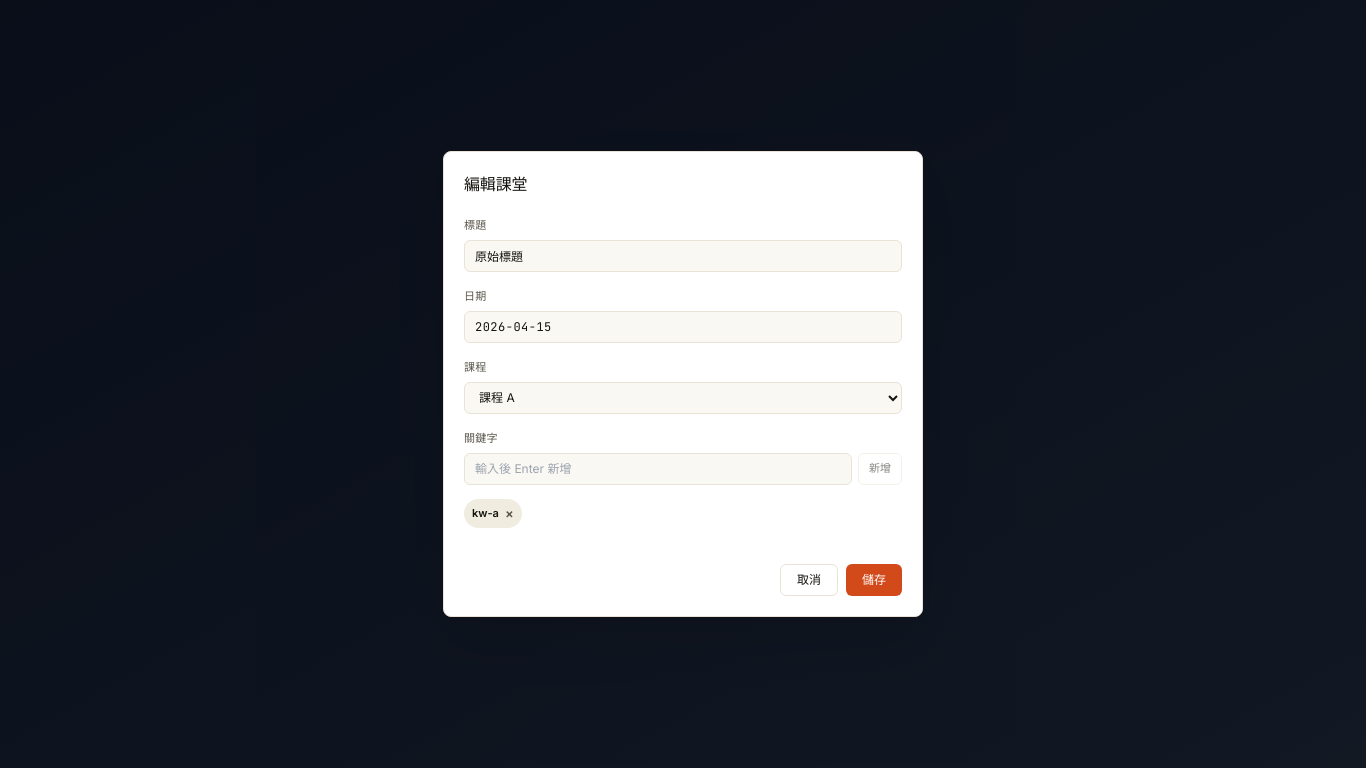
Test case: LectureEditDialog › adds a keyword when Enter is pressed
Step 1. Type "kw-new" into the field with placeholder "輸入後 Enter 新增" → [658, 469], box [464,453,852,485]
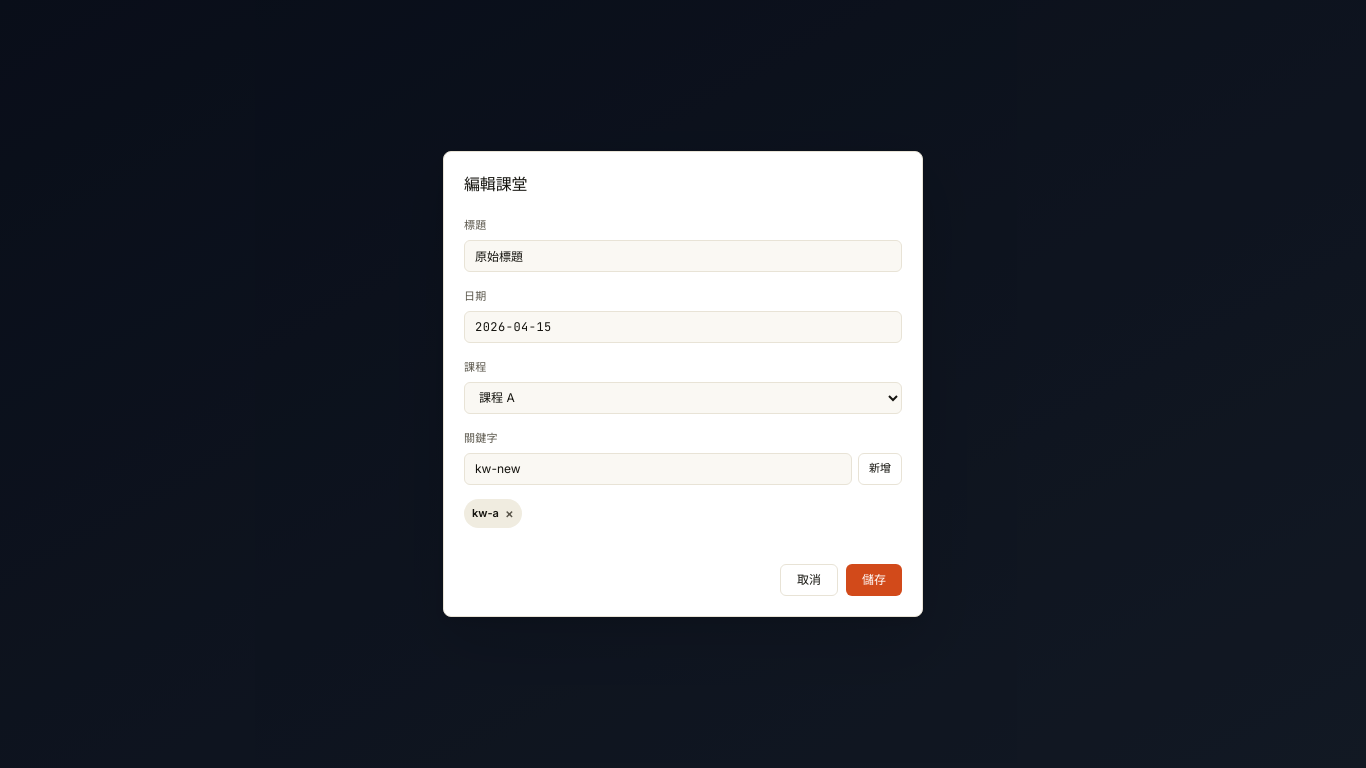
Step 2. Press Enter in the field with placeholder "輸入後 Enter 新增", box [464,453,852,485]
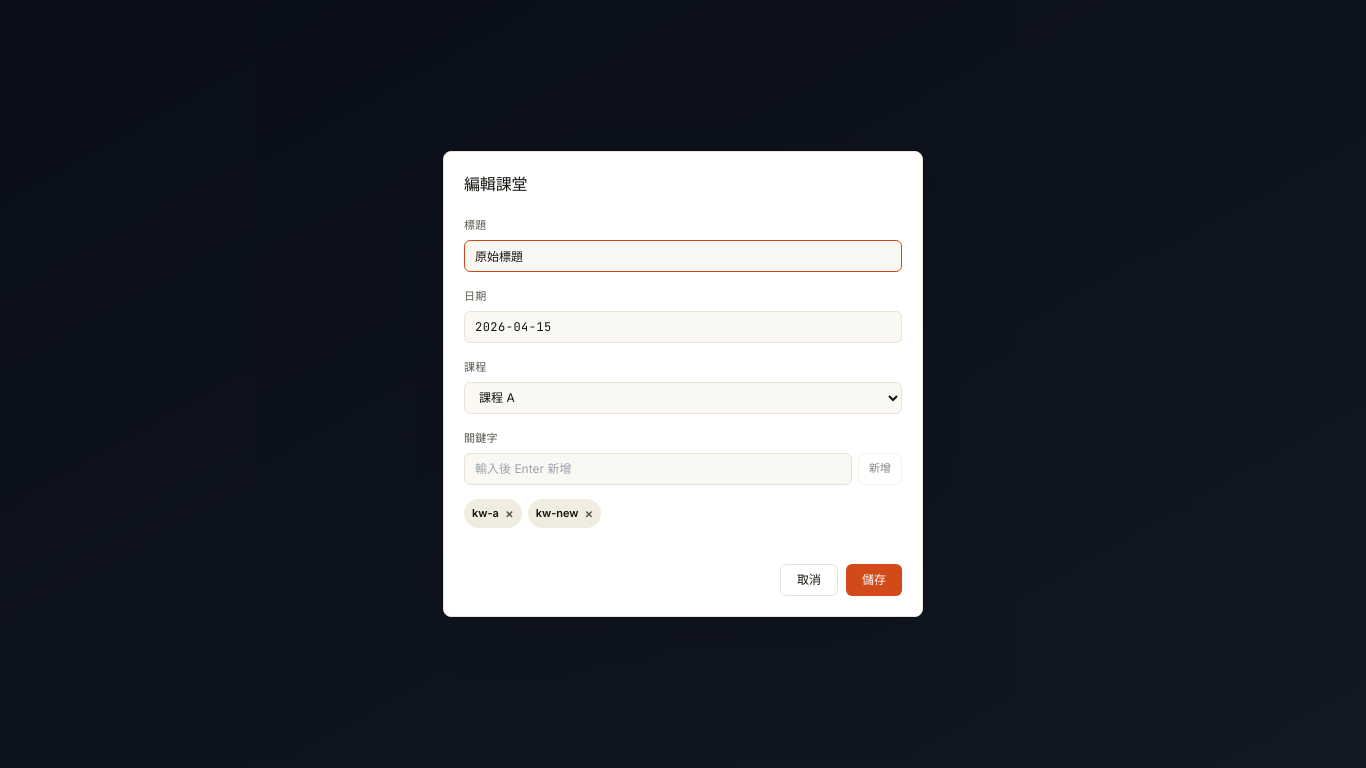
Now the text "kw-new" is shown, box [536,506,579,520]
Now the field with placeholder "輸入後 Enter 新增" is empty, box [464,453,852,485]
